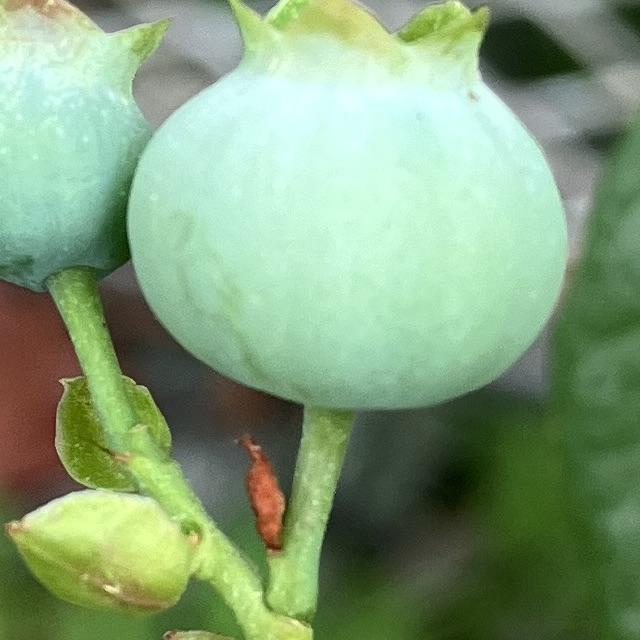Blueberries: (123, 0, 571, 414), (0, 0, 162, 292)
